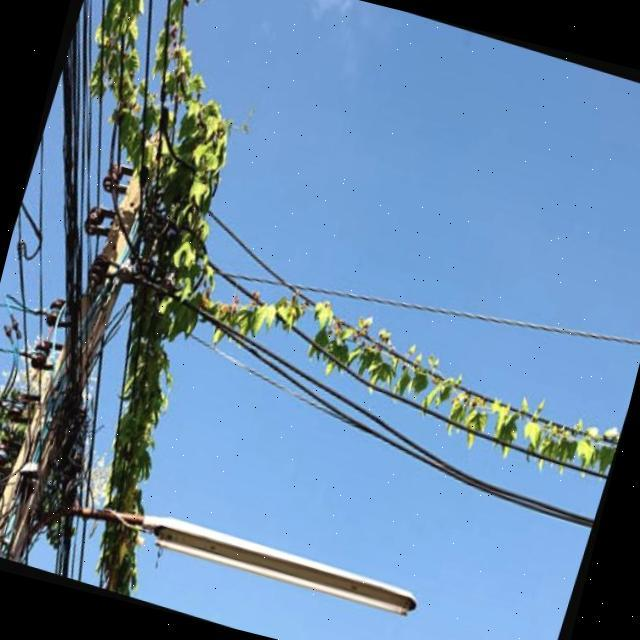critical vegetation: (0, 71, 273, 530), (0, 352, 59, 547)
